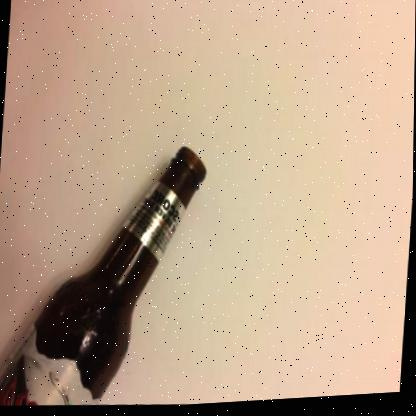Glass: (0, 150, 204, 406)
